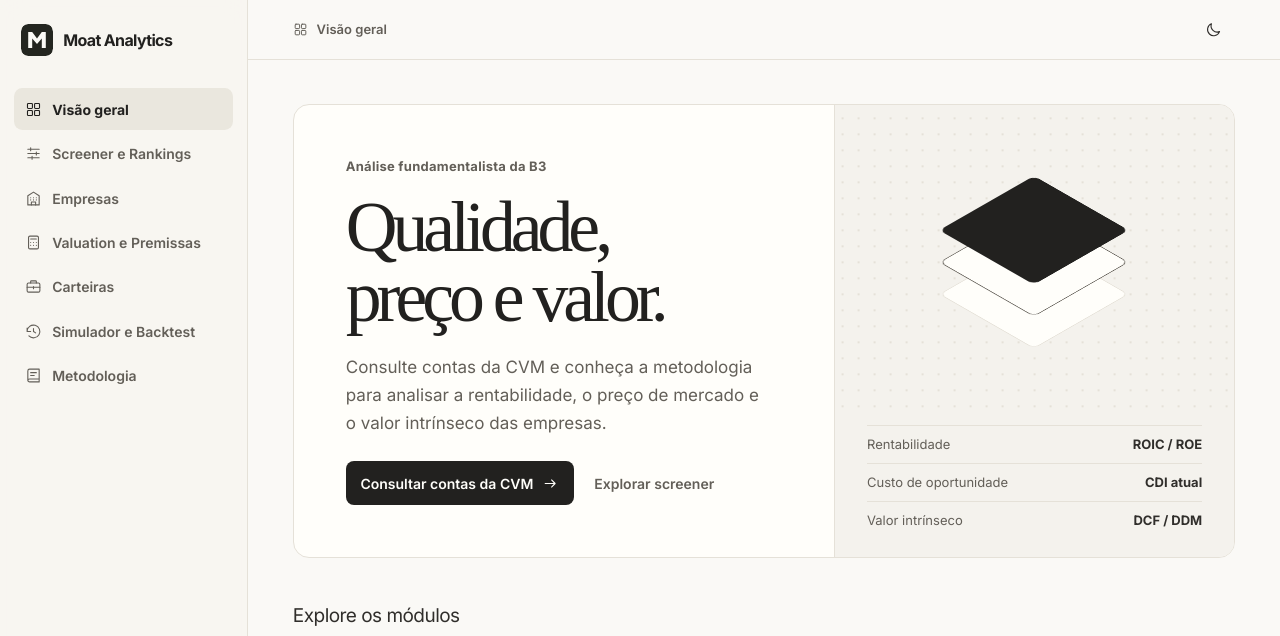
Test: Moat Analytics › navega entre as páginas e indica a página atual
What coordinates should you click on to do the following:
click the link "Screener e Rankings"
I would click on:
 (108, 154)
Its box is [25,145,191,162].
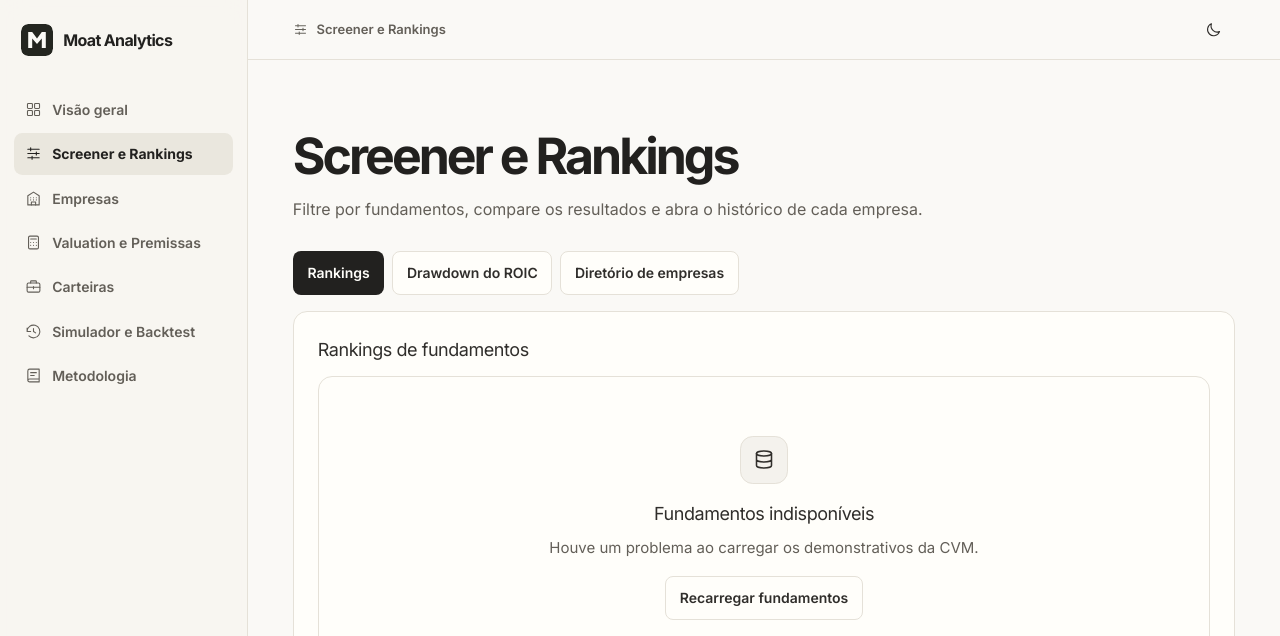
Check: the heading "Screener e Rankings" is shown, box [293,126,737,186]
What coordinates should you click on to do the following:
click the link "Empresas"
I would click on:
 (72, 198)
Its box is [25,190,119,207].
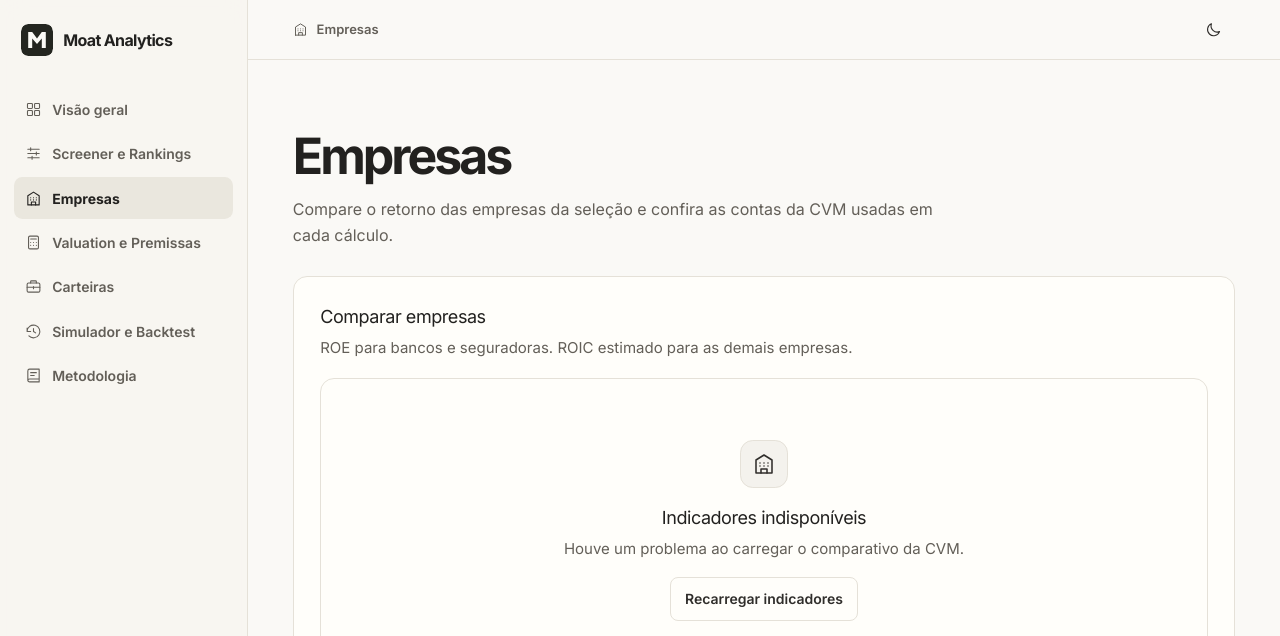
Check: the heading "Empresas" is shown, box [293,126,510,186]
What coordinates should you click on to do the following:
click the link "Valuation e Premissas"
I would click on:
 (113, 243)
Its box is [25,234,201,251].
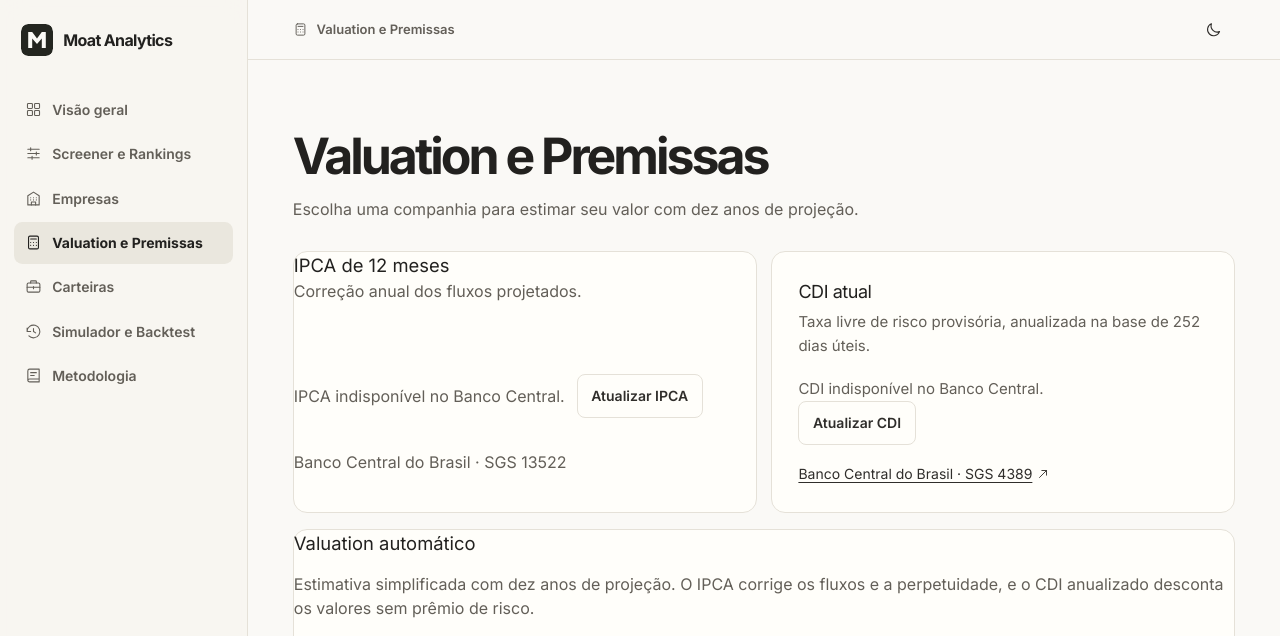
Check: the heading "Valuation e Premissas" is shown, box [293,126,768,186]
What coordinates should you click on to do the following:
click the link "Carteiras"
I would click on:
 (70, 287)
Its box is [25,278,114,296].
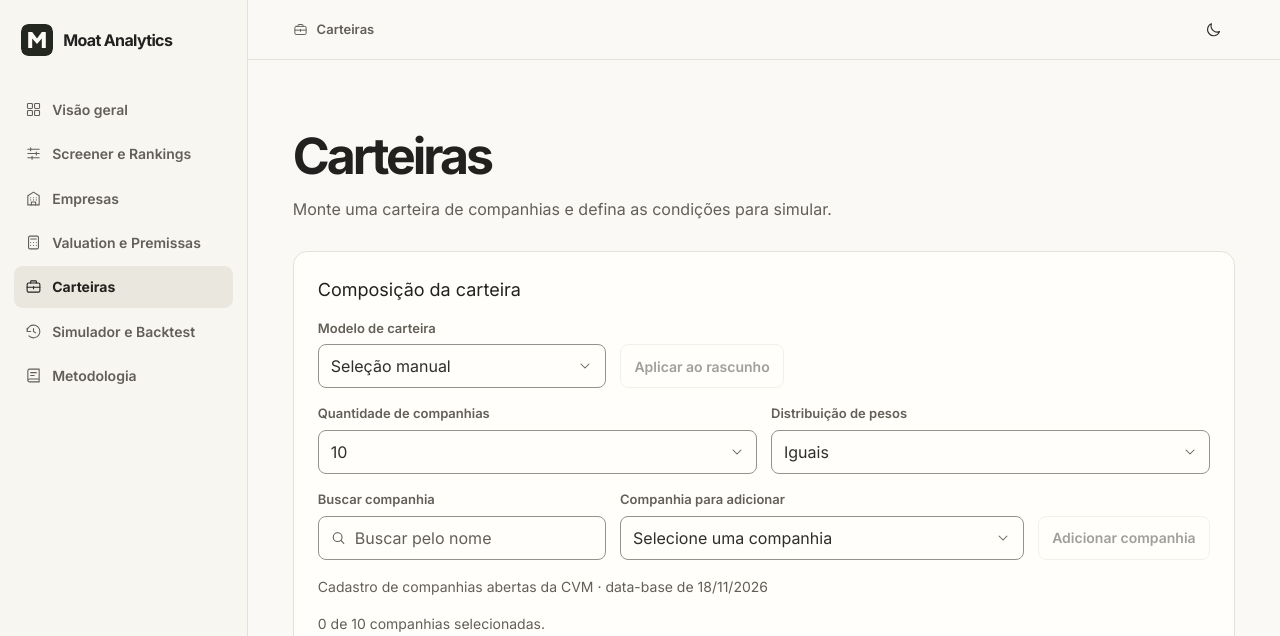
Check: the heading "Carteiras" is shown, box [293,126,491,186]
What coordinates should you click on to do the following:
click the link "Simulador e Backtest"
I would click on:
 (110, 331)
Its box is [25,323,195,340].
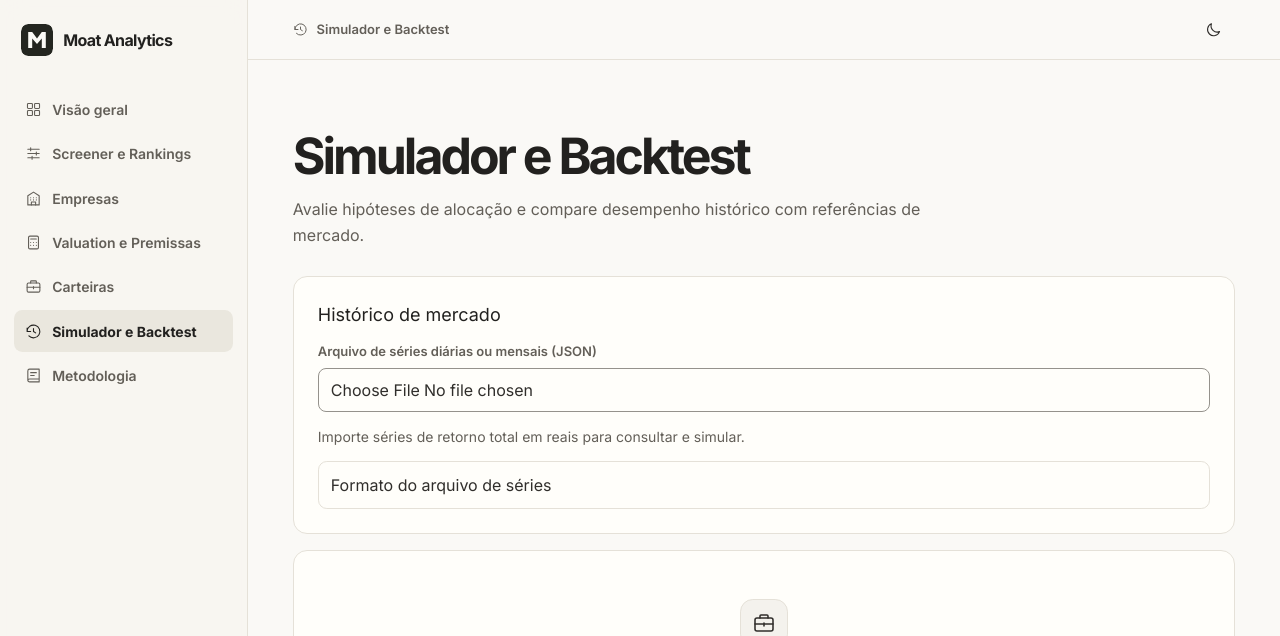
Check: the heading "Simulador e Backtest" is shown, box [293,126,749,186]
What coordinates should you click on to do the following:
click the link "Metodologia"
I would click on:
 (81, 376)
Its box is [25,367,137,384].
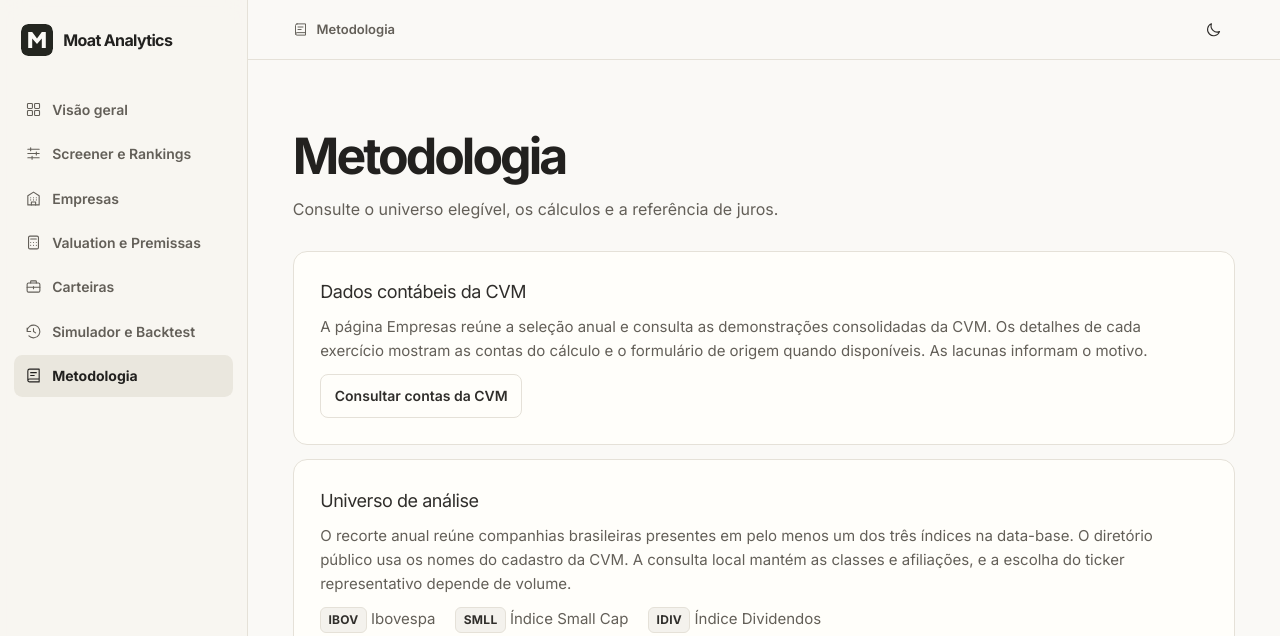
Check: the heading "Metodologia" is shown, box [293,126,565,186]
